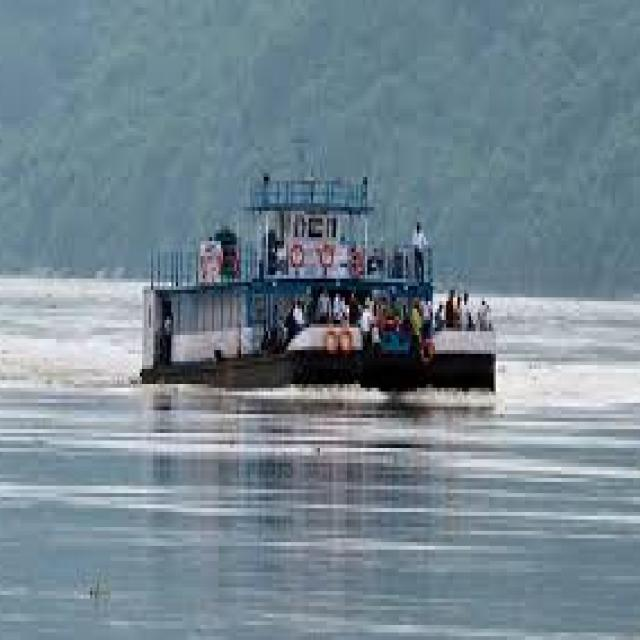fishing boat: (135, 143, 502, 392)
